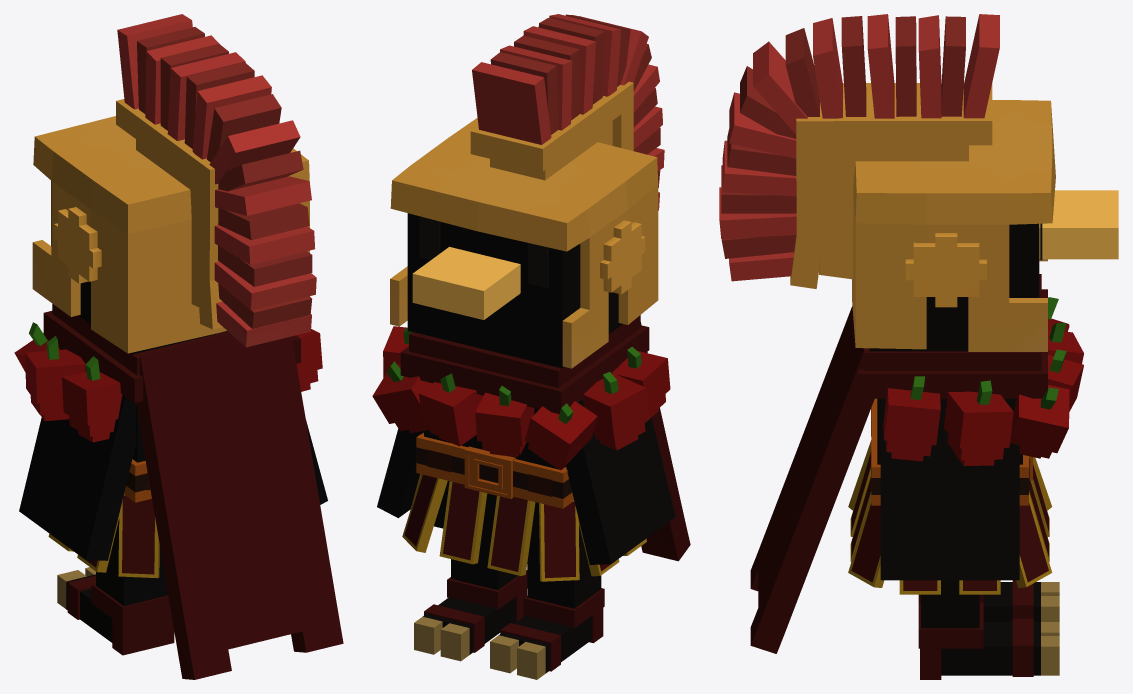
The model's file is [BRAINROT] Brri Brri Bicus Dicus Bombicus.obj.
3 views of the same model, side by side, from view 1: azimuth 30°, elevation 25°; view 2: azimuth 150°, elevation 25°; view 3: azimuth 270°, elevation 25° (orthographic). The views are drawn at different scales.
Parts seen in each view (by area): view 1: Cube0011, Cube0151, Cube0121, Cube0171, Cube0111, Cube0191, Cube0211, Cube0081; view 2: Cube0011, Cube0121, Cube0151, Cube0171, Cube0111, Cube0081, Cube0211, Cube0191, Cube0021, Cube0101; view 3: Cube0011, Cube0151, Cube0121, Cube0171, Cube0111, Cube0211, Cube0191, Cube0081.
Boxes of the visible parts, <box> form: Cube0011: <box>32,14,316,353</box>; Cube0151: <box>43,304,343,679</box>; Cube0121: <box>19,181,327,642</box>; Cube0171: <box>14,329,322,442</box>; Cube0111: <box>48,493,159,578</box>; Cube0191: <box>29,322,100,380</box>; Cube0211: <box>57,567,95,608</box>; Cube0081: <box>124,459,151,502</box>; Cube0011: <box>390,14,664,368</box>; Cube0121: <box>377,213,675,673</box>; Cube0151: <box>400,315,690,671</box>; Cube0171: <box>372,326,670,470</box>; Cube0111: <box>402,474,646,581</box>; Cube0081: <box>416,433,573,508</box>; Cube0211: <box>414,616,545,679</box>; Cube0191: <box>386,327,641,423</box>; Cube0021: <box>416,447,571,498</box>; Cube0101: <box>427,449,551,496</box>; Cube0011: <box>719,14,1118,351</box>; Cube0151: <box>750,274,1048,679</box>; Cube0121: <box>869,223,1040,675</box>; Cube0171: <box>883,318,1083,465</box>; Cube0111: <box>848,440,1052,594</box>; Cube0211: <box>1041,582,1059,675</box>; Cube0191: <box>910,297,1066,409</box>; Cube0081: <box>871,398,1032,505</box>.
Bounding box in the file's own units: 3.54 × 7.56 × 4.44.
Materials: 10 (1 with a texture image).
